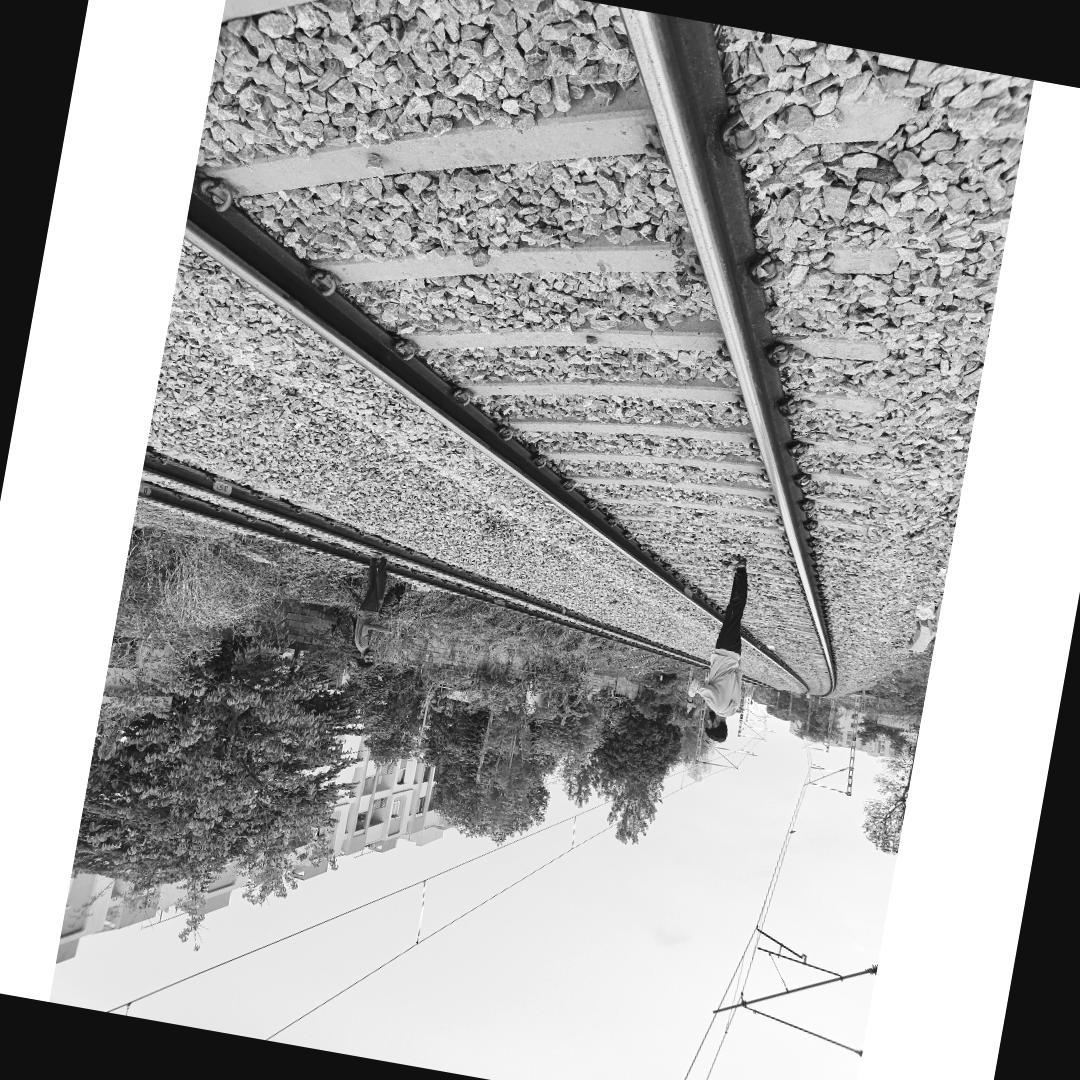standing: (676, 549, 768, 746), (345, 548, 407, 672)
track: (180, 0, 861, 706)
